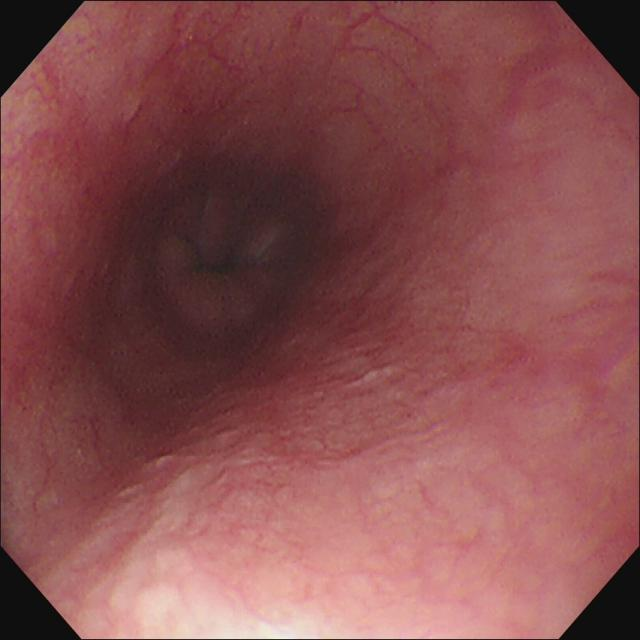I: (151, 168, 302, 344)
